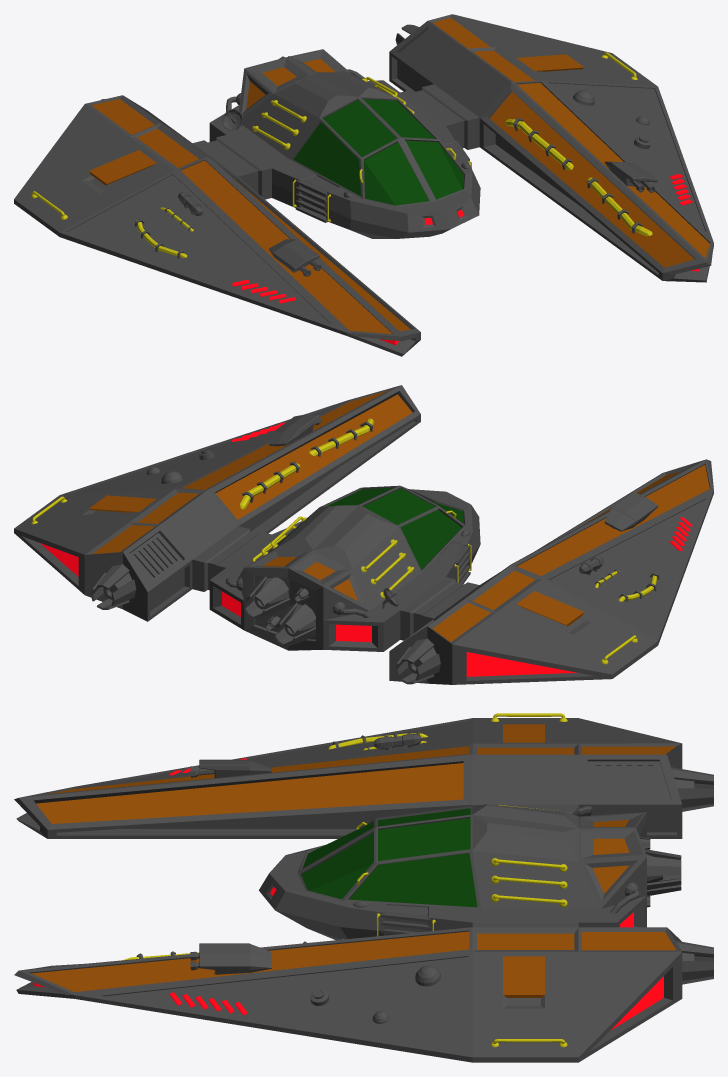
File: SpaceshipFlying.fbx
3 views of the same model, one above another, from view 1: azimuth 30°, elevation 25°; view 2: azimuth 150°, elevation 25°; view 3: azimuth 270°, elevation 25° (orthographic). The views are drawn at different scales.
Parts seen in each view (by area): view 1: Spaceship; view 2: Spaceship; view 3: Spaceship.
Boxes of the visible parts, box(x1,y1,x2,y2) form: Spaceship: box(14, 14, 713, 356); Spaceship: box(14, 385, 713, 684); Spaceship: box(14, 713, 713, 1062).
Bounding box in the file's own units: 1729 × 279 × 1507.
